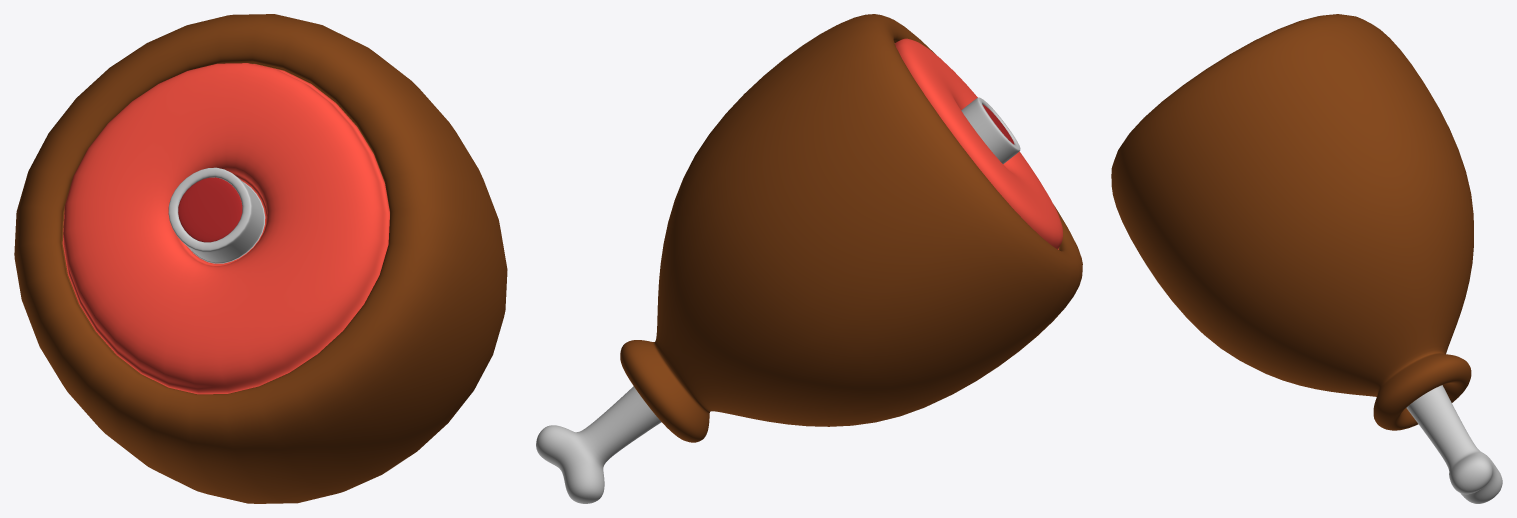
Rendered from meat.gltf.
3 renders of one model, left to right at view 1: azimuth 30°, elevation 25°; view 2: azimuth 150°, elevation 25°; view 3: azimuth 270°, elevation 25°, orthographic. The views are drawn at different scales.
Visible parts, largest first — view 1: Cube.035; view 2: Cube.035; view 3: Cube.035.
Boxes of the visible parts, left/top/right/bottom form: Cube.035: left=14, top=14, right=507, bottom=503; Cube.035: left=536, top=14, right=1082, bottom=503; Cube.035: left=1111, top=14, right=1502, bottom=503.
Size of the model in its own units: 8.18 by 8.21 by 7.33.
